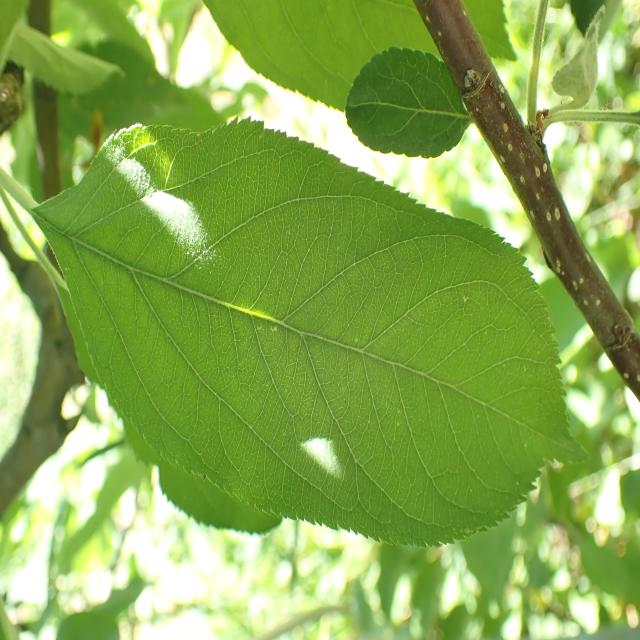healthy: (36, 113, 592, 551), (204, 0, 518, 113), (344, 48, 473, 160)
